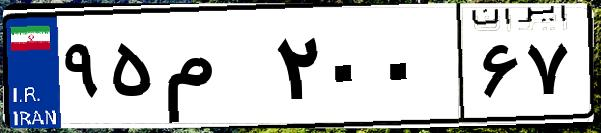0: (385, 28, 445, 110), (330, 28, 385, 110)
2: (270, 28, 330, 110)
5: (110, 28, 158, 98)
6: (475, 38, 525, 113)
7: (525, 38, 570, 115)
9: (57, 26, 110, 100)
م: (158, 20, 270, 120)
